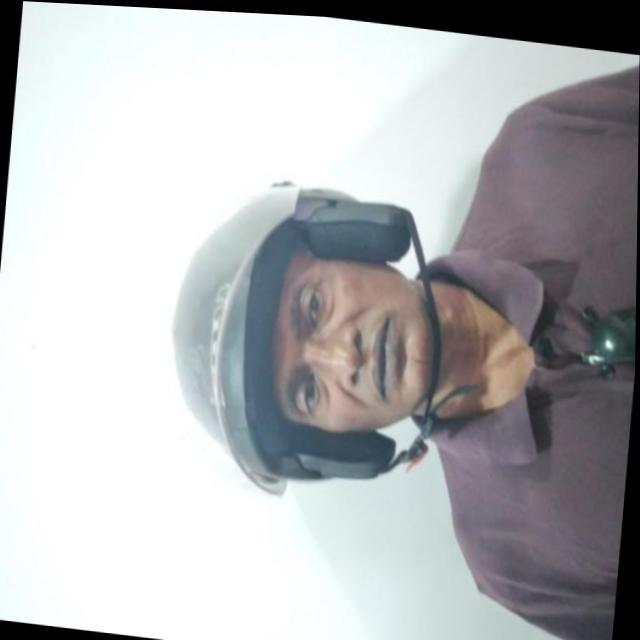with_helmet: (172, 181, 452, 483)
